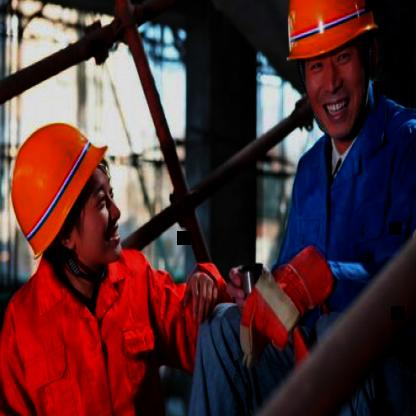helmet: (0, 100, 129, 300), (284, 0, 386, 146)
